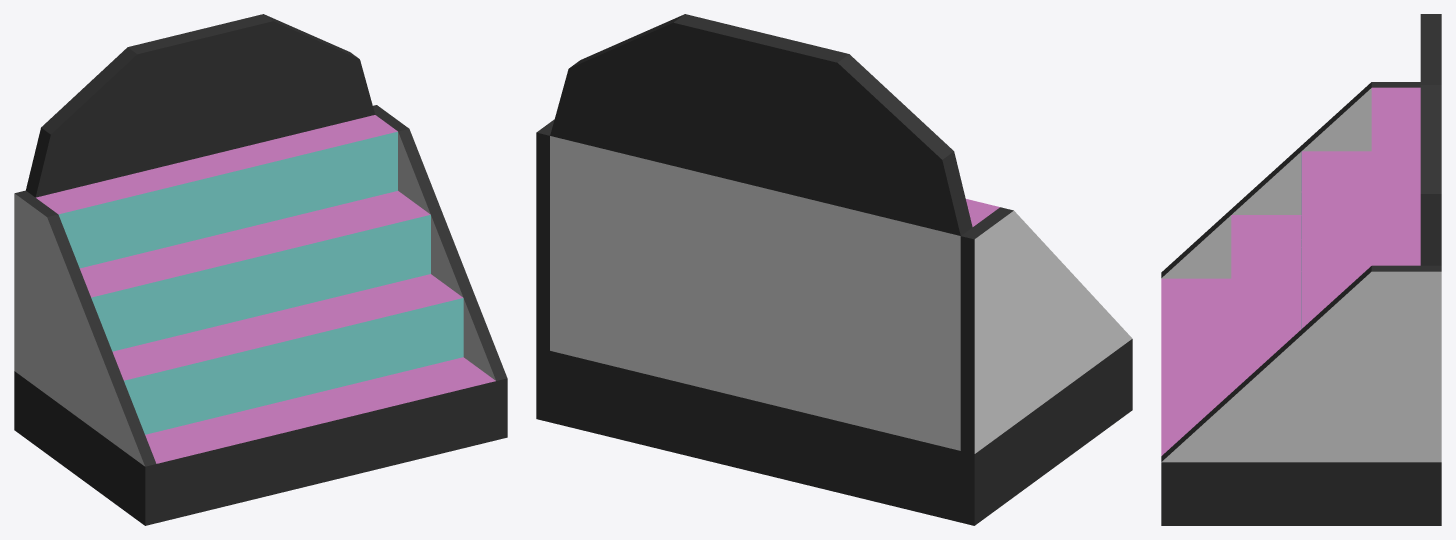
The model's file is Display Stand.fbx.
The picture shows the model from 3 angles, left to right: view 1: azimuth 30°, elevation 25°; view 2: azimuth 150°, elevation 25°; view 3: azimuth 270°, elevation 25°; orthographic projection. The views are drawn at different scales.
Visible parts, largest first — view 1: Display Stand; view 2: Display Stand; view 3: Display Stand.
Part boxes in pixels (left/top/right/bottom): Display Stand: left=14, top=14, right=507, bottom=525; Display Stand: left=536, top=14, right=1132, bottom=525; Display Stand: left=1161, top=14, right=1441, bottom=525.
Bounding box in the file's own units: 224 × 210 × 140.
